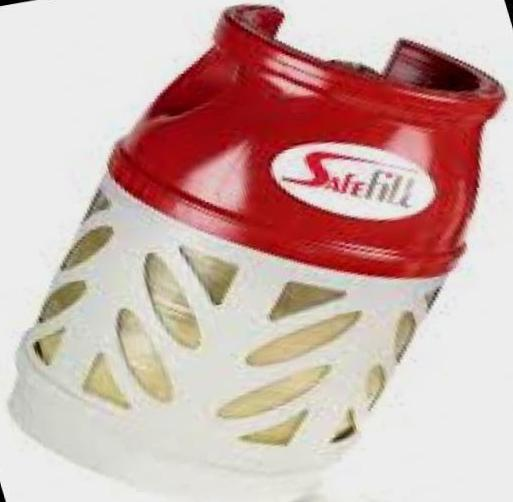cylinder: (1, 0, 513, 502)
